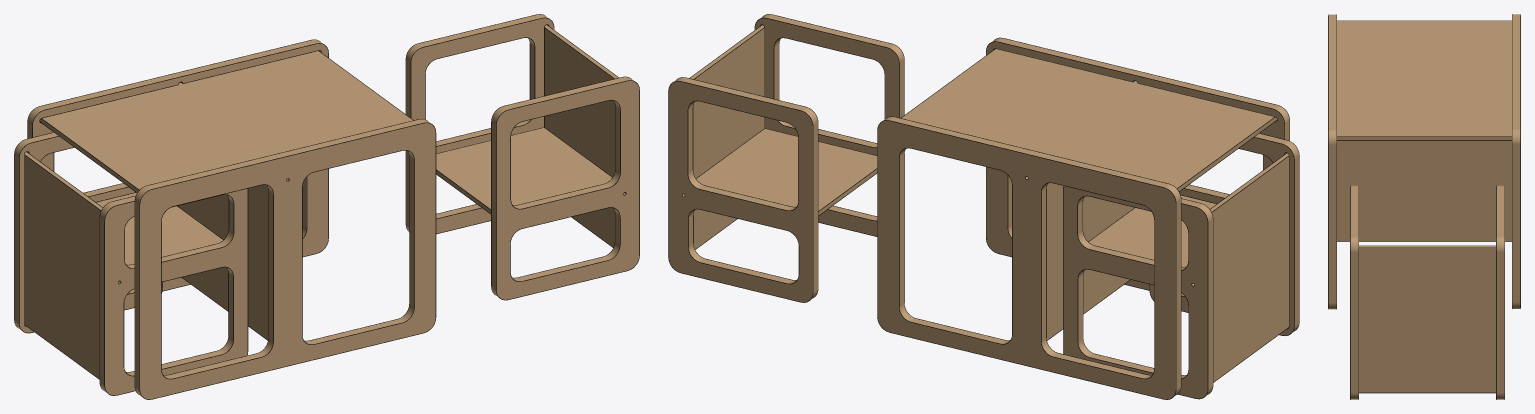
Rendered from modelo-una-afuera.glb.
3 views of the same model, side by side, from view 1: azimuth 30°, elevation 25°; view 2: azimuth 150°, elevation 25°; view 3: azimuth 270°, elevation 25° (orthographic). The views are drawn at different scales.
Parts seen in each view (by area): view 1: Cuerpo36, Cuerpo34, Cuerpo40, Cuerpo43, Cuerpo42, Cuerpo39, Cuerpo41, Cuerpo38, Cuerpo37, Cuerpo35, Cuerpo36_Bordes, Cuerpo45 (+6 smaller); view 2: Cuerpo37, Cuerpo34, Cuerpo41, Cuerpo43, Cuerpo45, Cuerpo39, Cuerpo38, Cuerpo40, Cuerpo36, Cuerpo35, Cuerpo42, Cuerpo37_Bordes (+6 smaller); view 3: Cuerpo34, Cuerpo38, Cuerpo35, Cuerpo36, Cuerpo37, Cuerpo40, Cuerpo41, Cuerpo36_Bordes, Cuerpo37_Bordes, Cuerpo38_Bordes, Cuerpo34_Bordes, Cuerpo40_Bordes (+1 smaller).
Part boxes in pixels (<box>): Cuerpo36: <box>135,119,435,399</box>; Cuerpo34: <box>40,51,412,192</box>; Cuerpo40: <box>491,77,639,299</box>; Cuerpo43: <box>24,152,102,378</box>; Cuerpo42: <box>100,188,247,395</box>; Cuerpo39: <box>436,128,612,213</box>; Cuerpo41: <box>406,14,553,233</box>; Cuerpo38: <box>544,25,618,247</box>; Cuerpo37: <box>27,40,328,290</box>; Cuerpo35: <box>178,185,268,339</box>; Cuerpo36_Bordes: <box>134,119,436,399</box>; Cuerpo45: <box>14,132,162,332</box>; Cuerpo37: <box>877,116,1180,399</box>; Cuerpo34: <box>901,49,1277,191</box>; Cuerpo41: <box>669,77,817,302</box>; Cuerpo43: <box>1210,153,1288,381</box>; Cuerpo45: <box>1064,186,1212,398</box>; Cuerpo39: <box>696,128,877,215</box>; Cuerpo38: <box>690,25,764,249</box>; Cuerpo40: <box>755,14,904,236</box>; Cuerpo36: <box>986,38,1289,290</box>; Cuerpo35: <box>1046,183,1134,339</box>; Cuerpo42: <box>1150,133,1299,335</box>; Cuerpo37_Bordes: <box>877,116,1181,399</box>; Cuerpo34: <box>1337,21,1511,139</box>; Cuerpo38: <box>1359,246,1495,392</box>; Cuerpo35: <box>1337,140,1511,240</box>; Cuerpo36: <box>1328,14,1336,309</box>; Cuerpo37: <box>1512,14,1520,308</box>; Cuerpo40: <box>1350,185,1358,399</box>; Cuerpo41: <box>1496,185,1504,399</box>; Cuerpo36_Bordes: <box>1328,14,1336,309</box>; Cuerpo37_Bordes: <box>1512,14,1520,308</box>; Cuerpo38_Bordes: <box>1359,245,1495,393</box>; Cuerpo34_Bordes: <box>1337,20,1511,140</box>; Cuerpo40_Bordes: <box>1350,185,1358,399</box>.
Bounding box in the file's own units: 1.12 × 0.4222 × 0.4091.
